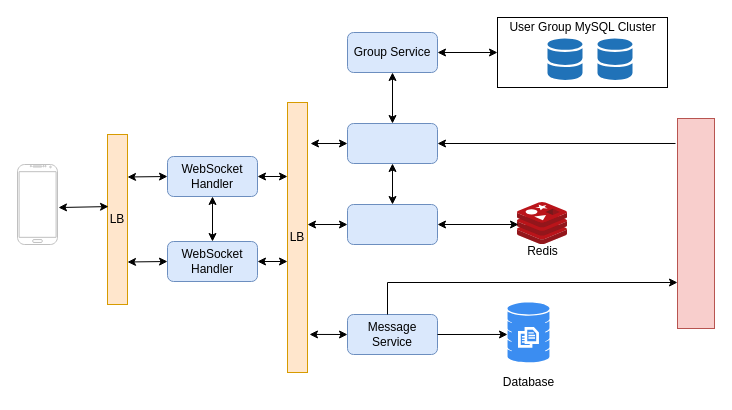
Image size: 732x410. Some labels were removed from this diagram. Each missing label, with the centre of its shape:
Group Message Handler: pixel 392 143
Kafka: pixel 695 223
WebSocket Manager: pixel 392 224
